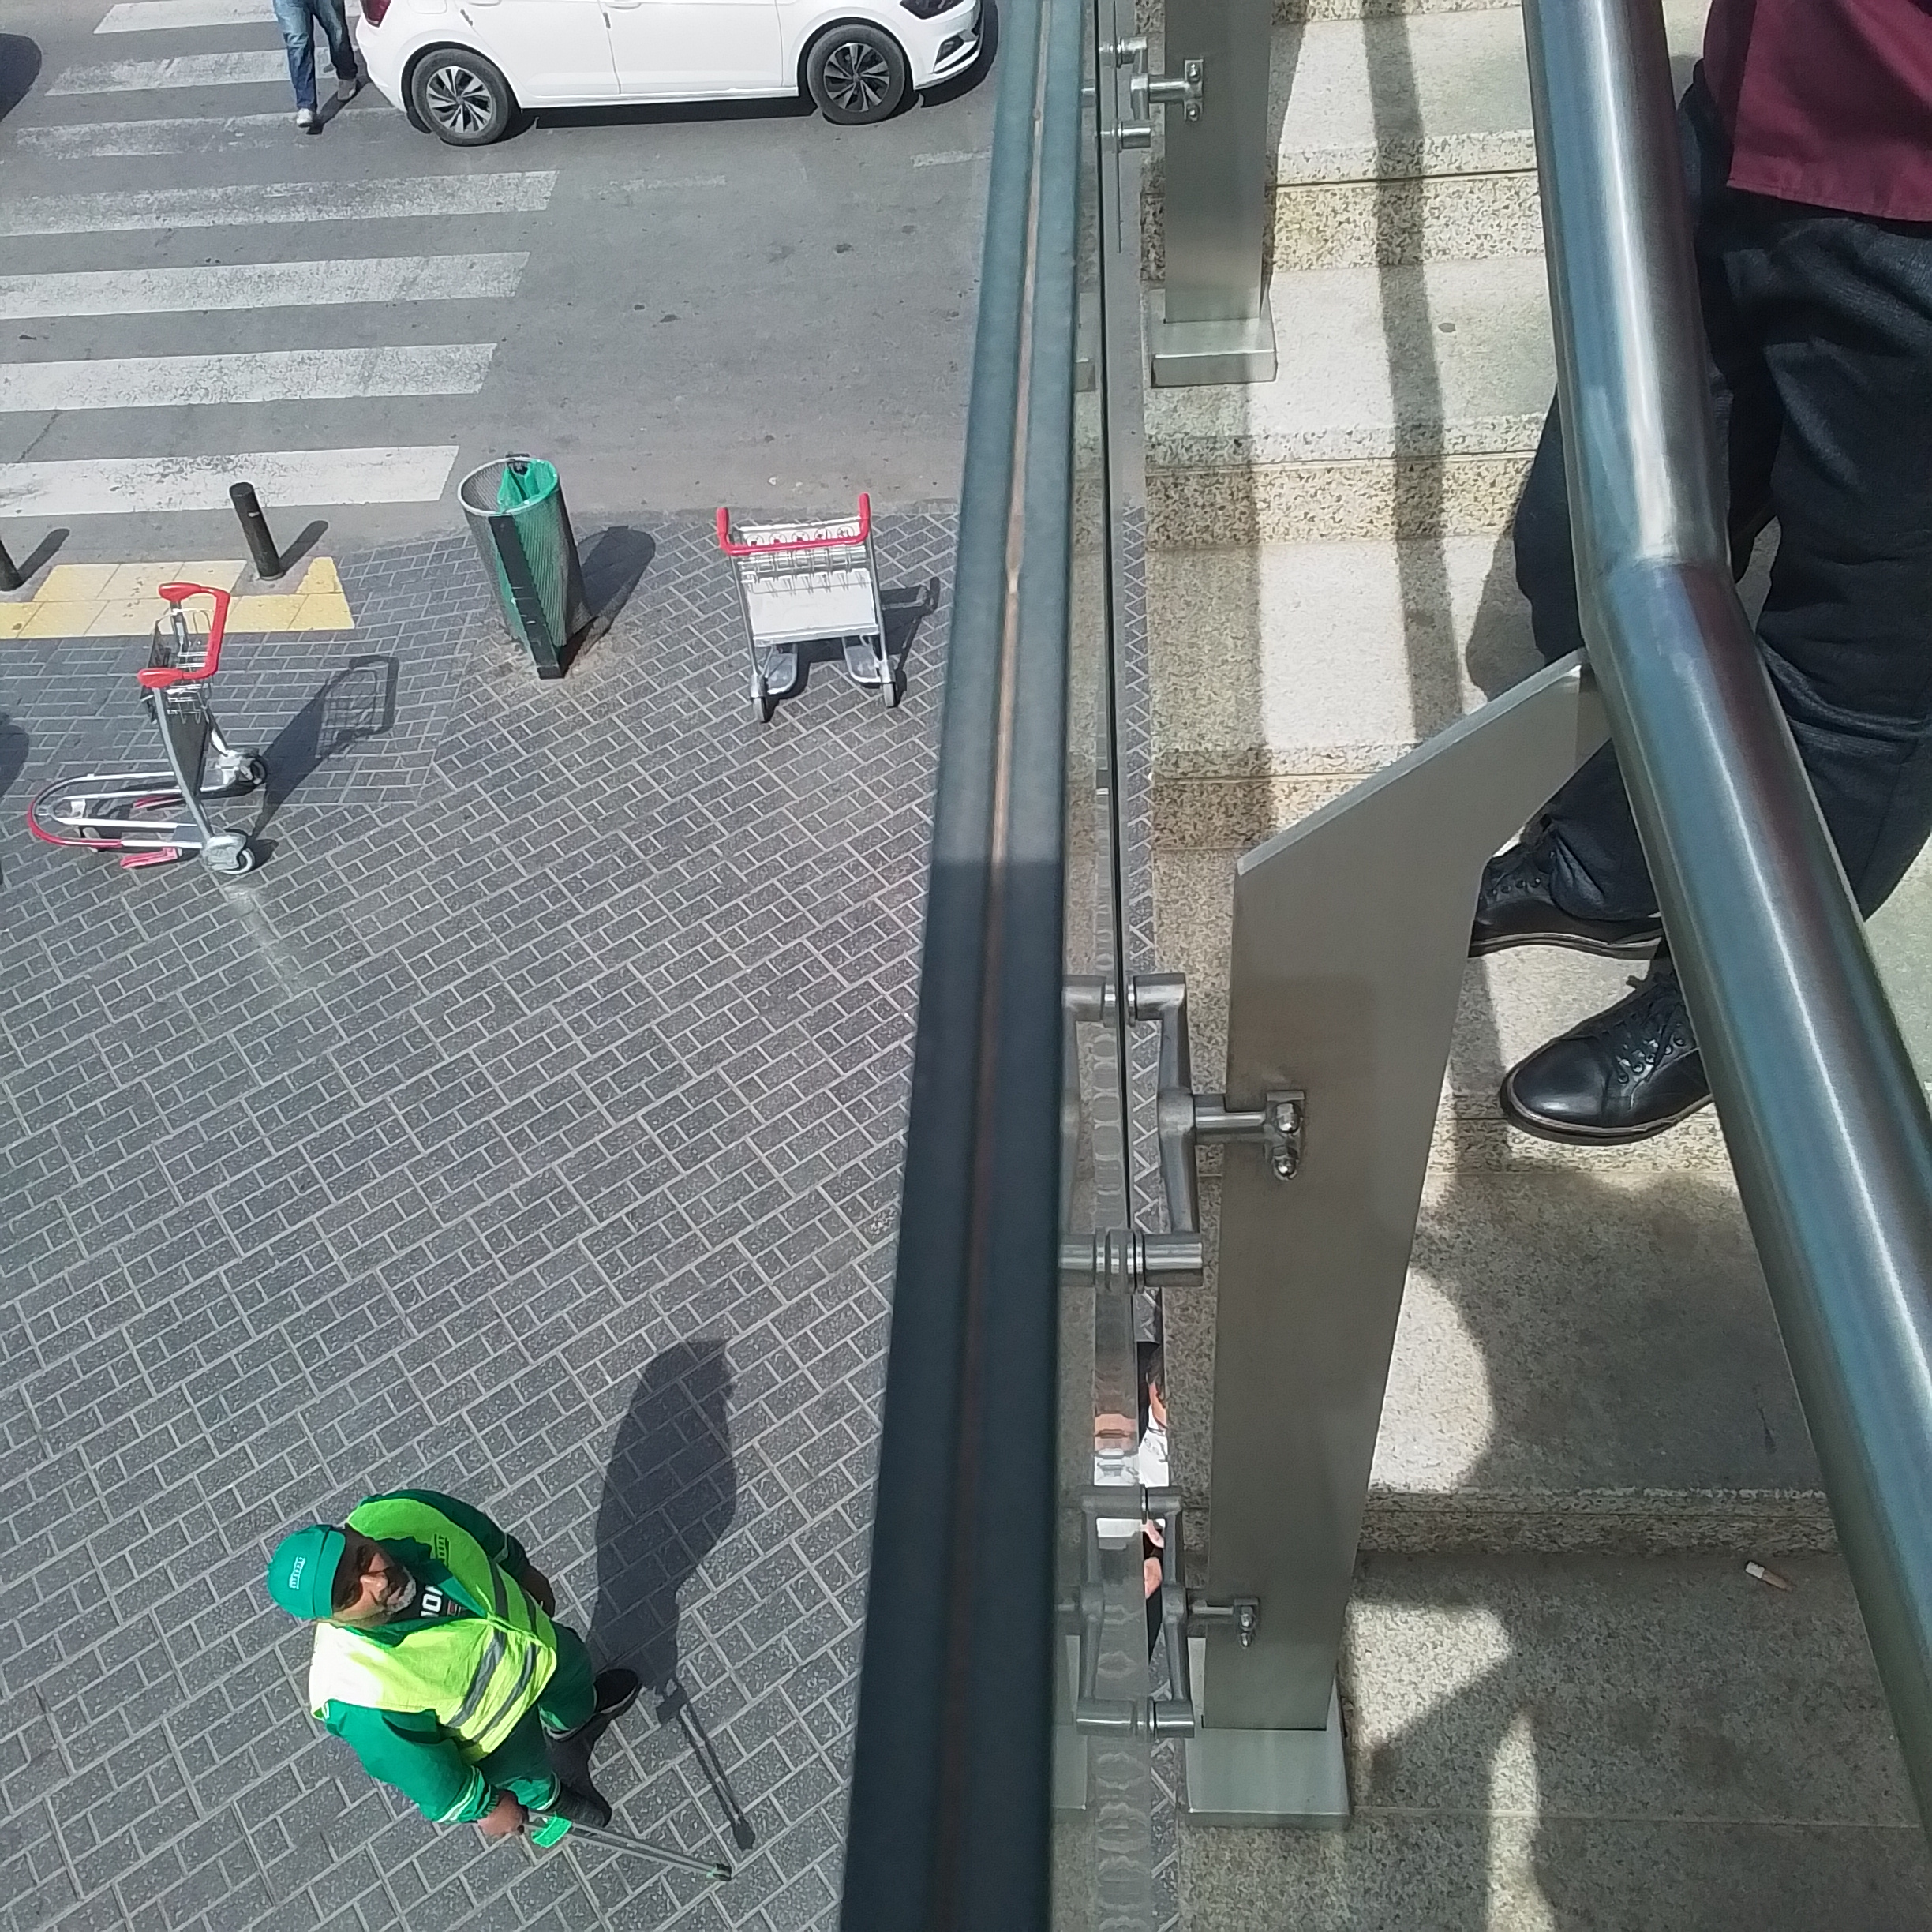airport-trolley: (30, 579, 281, 878), (709, 492, 904, 722)
